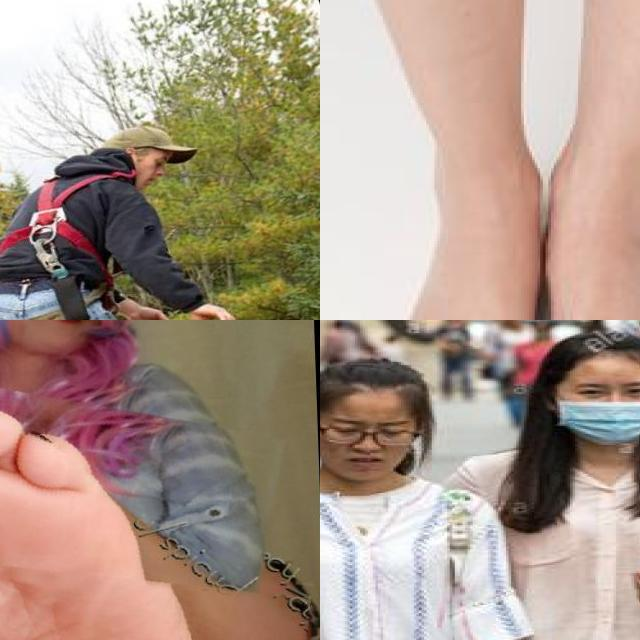Barefoots: (0, 403, 200, 640), (386, 161, 640, 320)
Harness: (0, 171, 137, 320)
face_mask: (552, 376, 640, 443)
face_nomask: (320, 411, 416, 480)
glasses: (320, 424, 424, 449)
hand_noglove: (621, 558, 640, 606)
head_nohelmet: (320, 350, 434, 408), (552, 322, 640, 378)
person: (320, 326, 531, 640), (490, 320, 640, 640)
